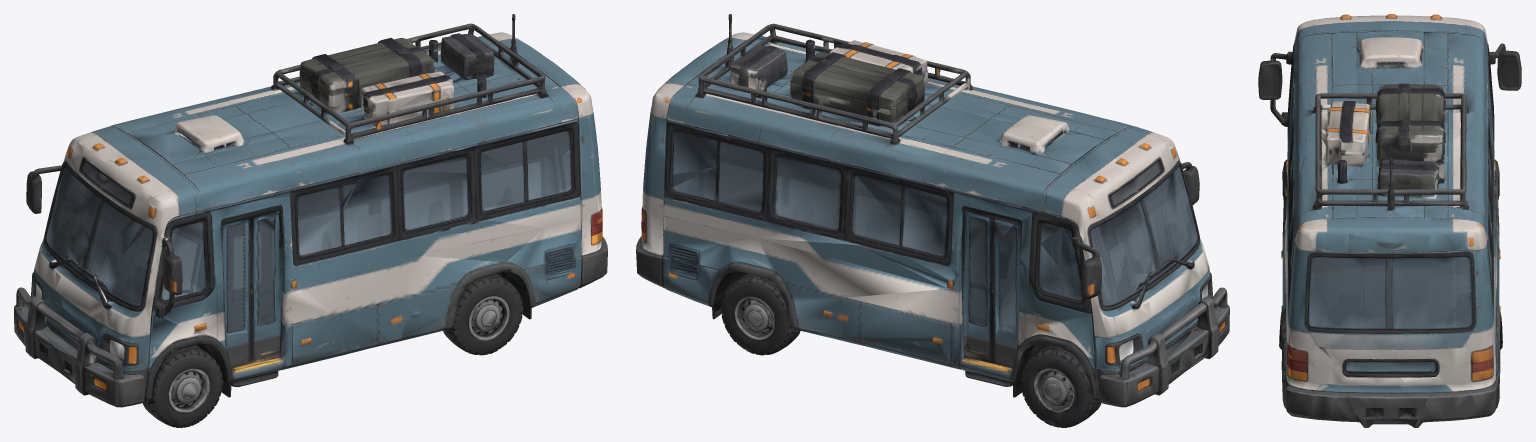
Rendered from VEH_BLUE_HOUR.glb.
The picture shows the model from 3 angles, left to right: view 1: azimuth 30°, elevation 25°; view 2: azimuth 150°, elevation 25°; view 3: azimuth 270°, elevation 25°; orthographic projection.
Visible parts, largest first — view 1: Mesh_0; view 2: Mesh_0; view 3: Mesh_0.
Part boxes in pixels (left/top/right/bottom): Mesh_0: left=14, top=14, right=607, bottom=427; Mesh_0: left=636, top=14, right=1229, bottom=427; Mesh_0: left=1258, top=14, right=1521, bottom=427.
Bounding box in the file's own units: 5.26 × 2.75 × 2.29.
1 material, 1 textured.
